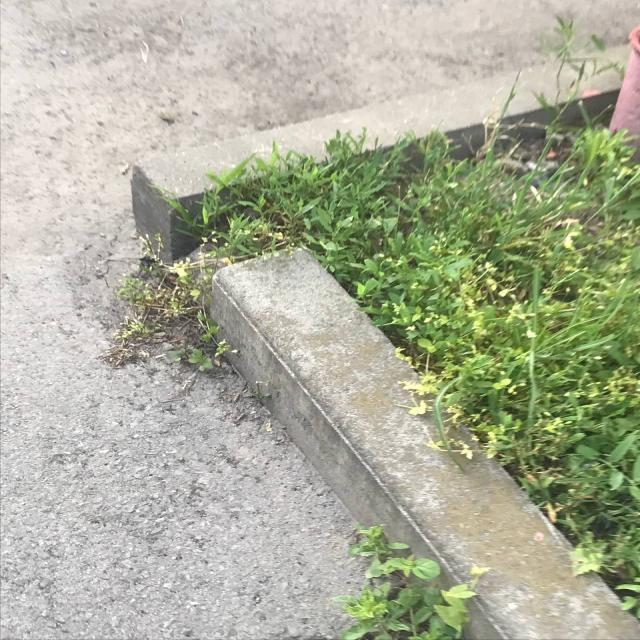bump: (196, 243, 424, 578)
